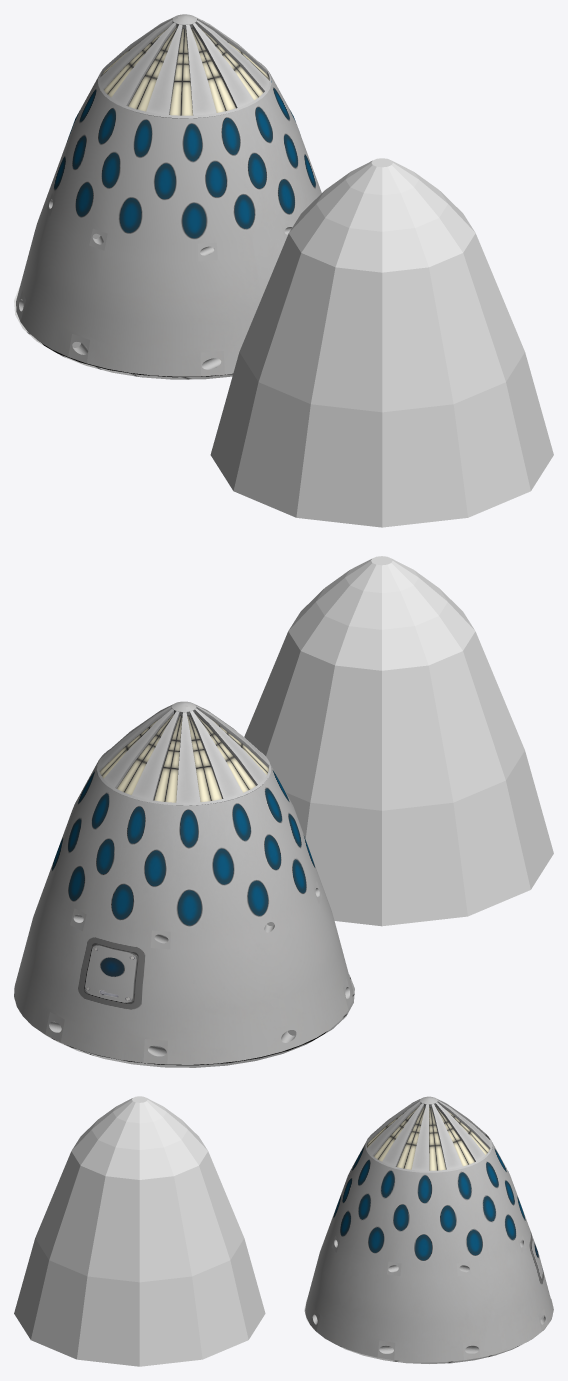
Rendered from newcolonialfinal4.fbx.
The picture shows the model from 3 angles, top to bottom: view 1: azimuth 30°, elevation 25°; view 2: azimuth 150°, elevation 25°; view 3: azimuth 270°, elevation 25°; orthographic projection. The views are drawn at different scales.
Visible parts, largest first — view 1: Cone, colonialpod, topring.002, botoom; view 2: Cone, colonialpod, topring.002, botoom; view 3: Cone, colonialpod, topring.002, botoom.
Part boxes in pixels (<box>): Cone: <box>210,158,553,527</box>; colonialpod: <box>16,62,321,376</box>; topring.002: <box>98,17,271,118</box>; botoom: <box>14,286,232,379</box>; Cone: <box>244,556,553,926</box>; colonialpod: <box>14,749,352,1064</box>; topring.002: <box>96,704,270,805</box>; botoom: <box>14,974,354,1067</box>; Cone: <box>14,1096,265,1366</box>; colonialpod: <box>305,1140,552,1362</box>; topring.002: <box>365,1099,492,1172</box>; botoom: <box>304,1298,553,1363</box>.
Bounding box in the file's own units: 790 × 765 × 1696.
